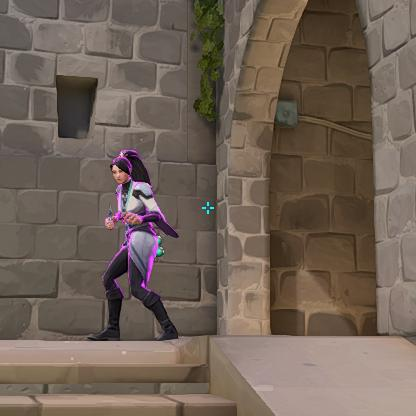enemyBody: (129, 186, 151, 242)
enemyHead: (115, 165, 131, 180)
